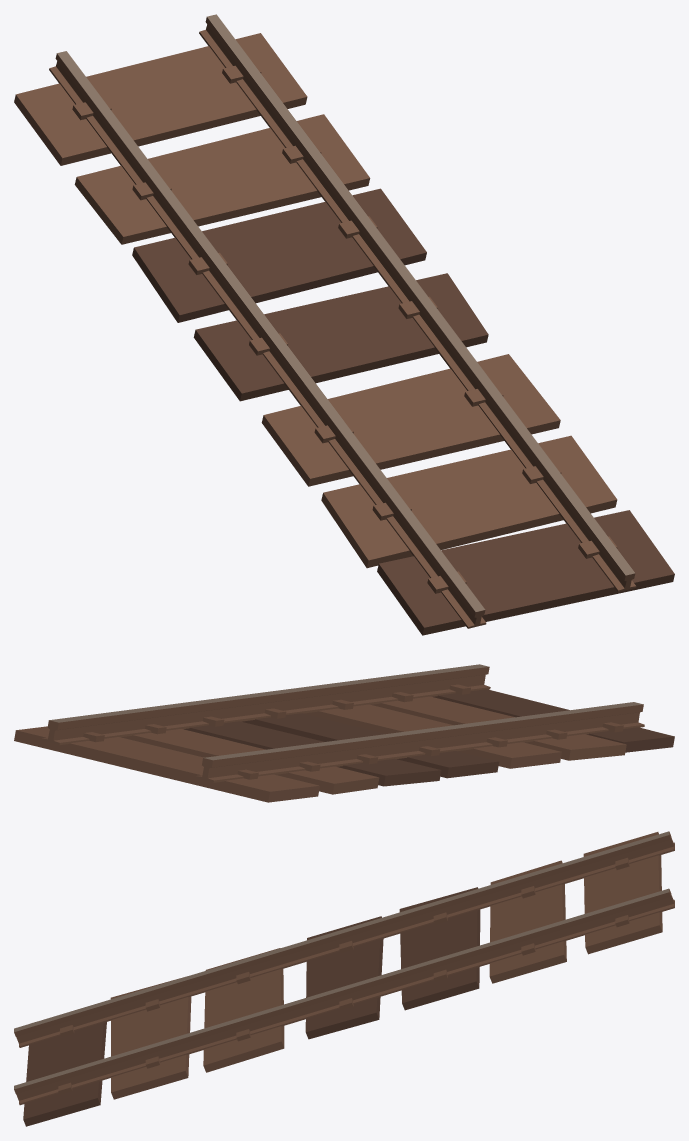
Rendered from Mines Car Track 3M V3.glb.
3 renders of one model, top to bottom at view 1: azimuth 30°, elevation 25°; view 2: azimuth 150°, elevation 25°; view 3: azimuth 270°, elevation 25°, orthographic. The views are drawn at different scales.
Visible parts, largest first — view 1: Mines Car Track 3M v3; view 2: Mines Car Track 3M v3; view 3: Mines Car Track 3M v3.
Boxes of the visible parts, x1=… form: Mines Car Track 3M v3: x1=14, y1=14, x2=674, y2=635; Mines Car Track 3M v3: x1=14, y1=664, x2=674, y2=802; Mines Car Track 3M v3: x1=14, y1=831, x2=674, y2=1126.
Size of what is drawn, in the model's own units: 1.07 by 1.11 by 3.05.
1 material, 1 textured.
